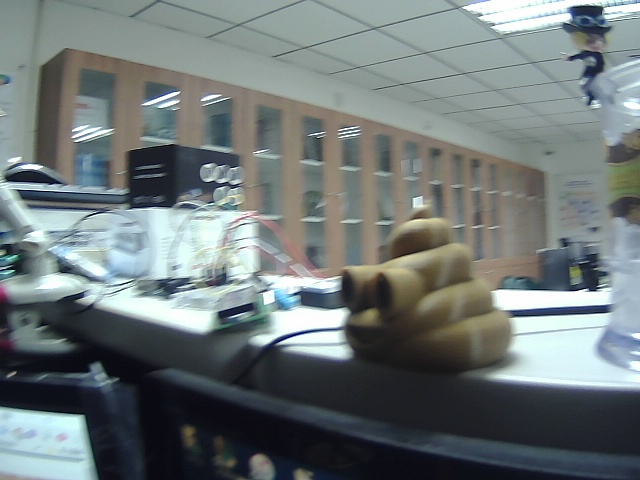shit: (323, 193, 522, 384)
